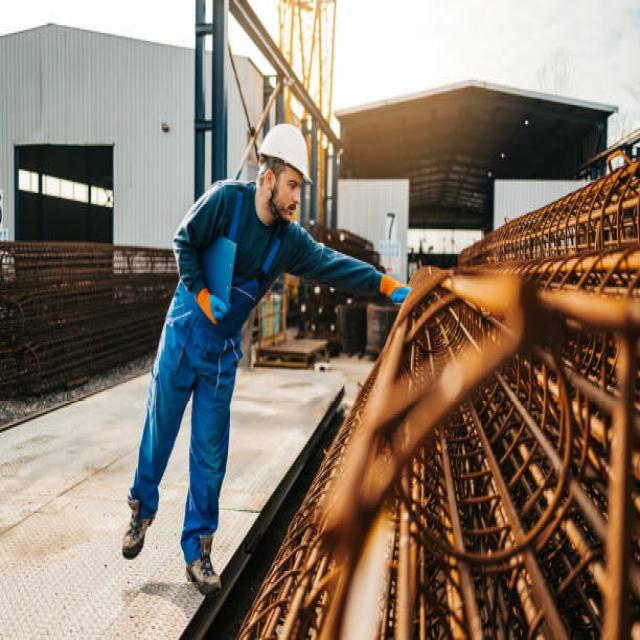Gloves: (194, 283, 231, 325), (377, 272, 417, 308)
helmet: (258, 120, 313, 188)
person: (121, 120, 421, 600)
